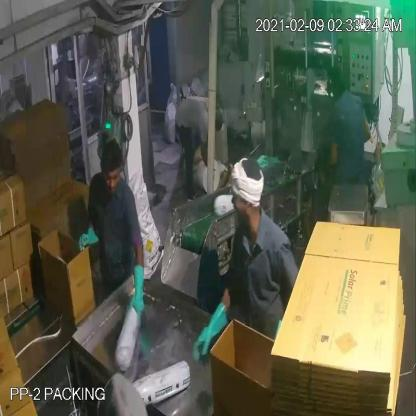glove: (188, 295, 234, 370), (123, 256, 152, 336), (74, 215, 102, 259)
